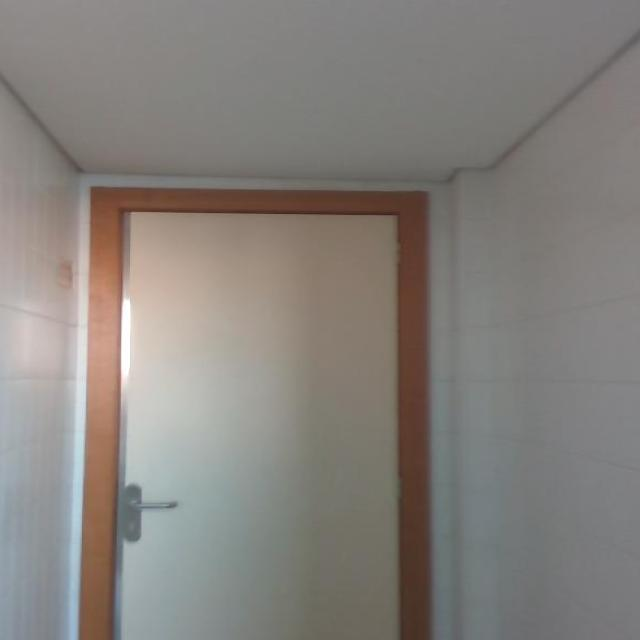door: (113, 205, 403, 639)
